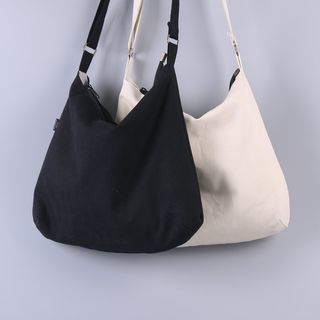nylon: (32, 1, 292, 253)
